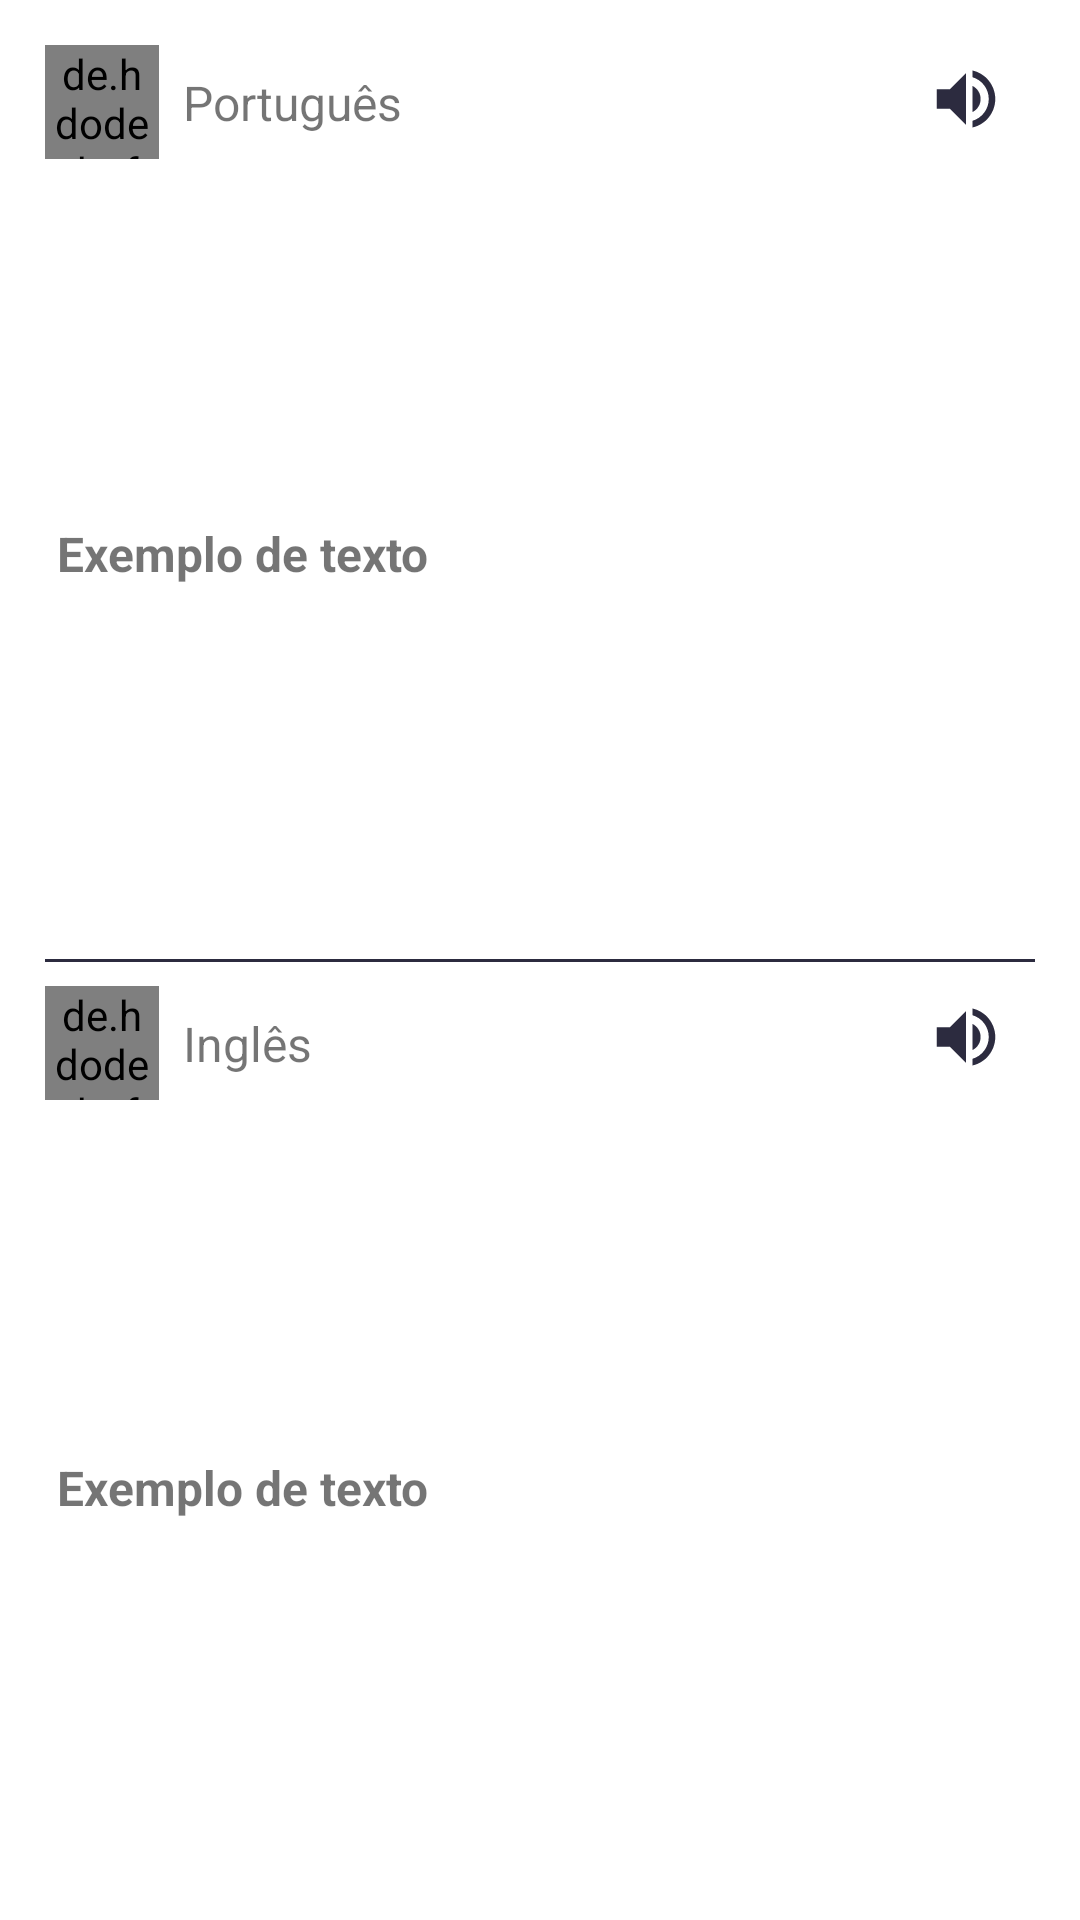

Where to tap for icons on this 1080x1920 app screen, as [x,y]:
sound: [966,99], [966,1037]
